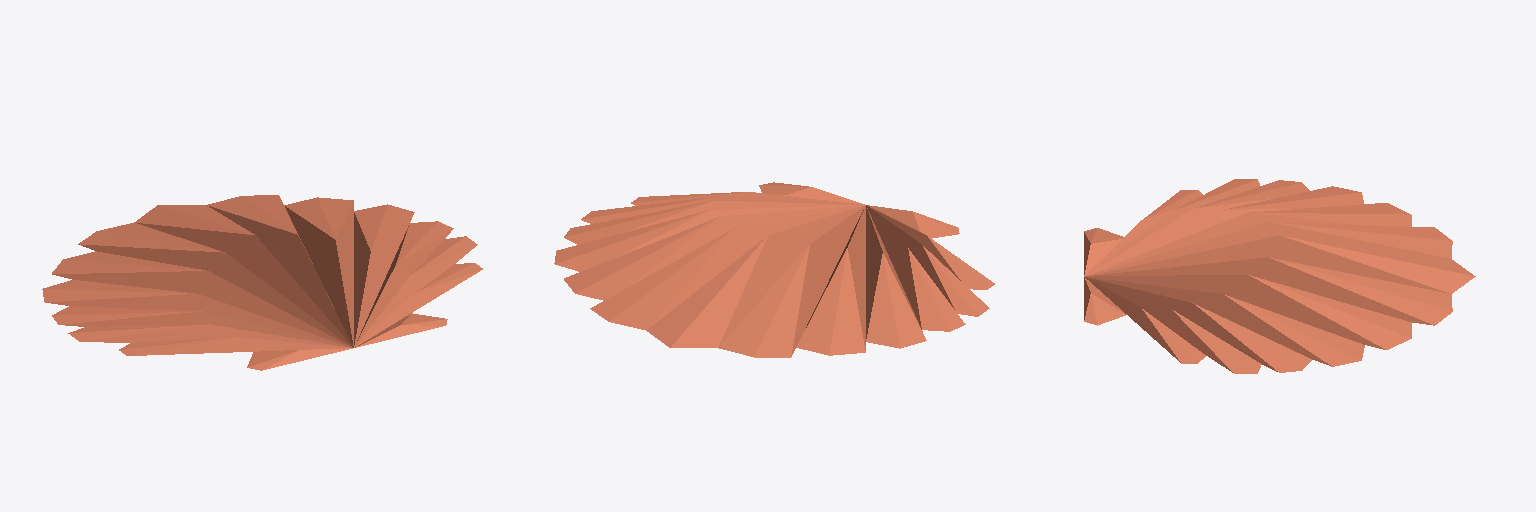
The model's file is clamshell.obj.
The picture shows the model from 3 angles: view 1: azimuth 30°, elevation 25°; view 2: azimuth 150°, elevation 25°; view 3: azimuth 270°, elevation 25°; orthographic projection.
Parts seen in each view (by area): view 1: Mesh1 Model; view 2: Mesh1 Model; view 3: Mesh1 Model.
Part boxes in pixels (left/top/right/bottom): Mesh1 Model: left=42, top=195, right=482, bottom=370; Mesh1 Model: left=554, top=182, right=994, bottom=357; Mesh1 Model: left=1084, top=179, right=1475, bottom=373.
Size of the model in its own units: 7.59 by 0.75 by 6.47.